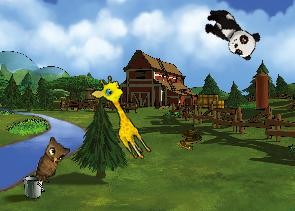giraffe: (86, 72, 162, 163)
owl: (34, 135, 72, 187)
panda: (197, 3, 264, 63)
